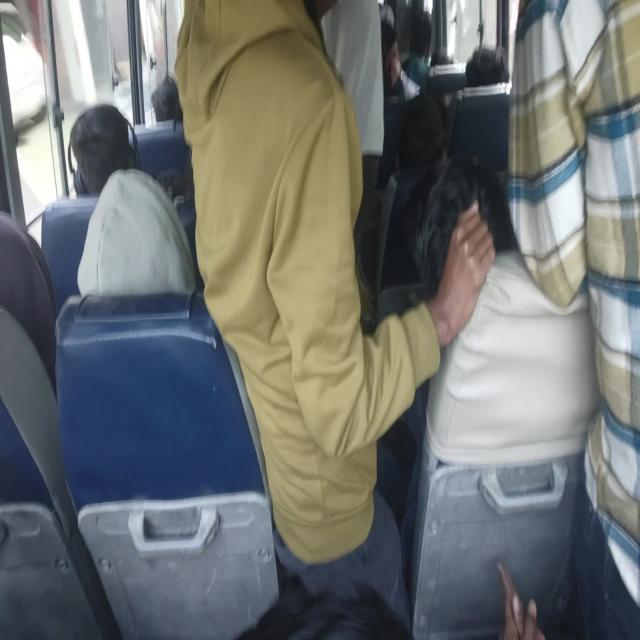person: (172, 1, 498, 630), (412, 155, 600, 468), (76, 166, 196, 298), (67, 102, 141, 196), (380, 20, 421, 101)
